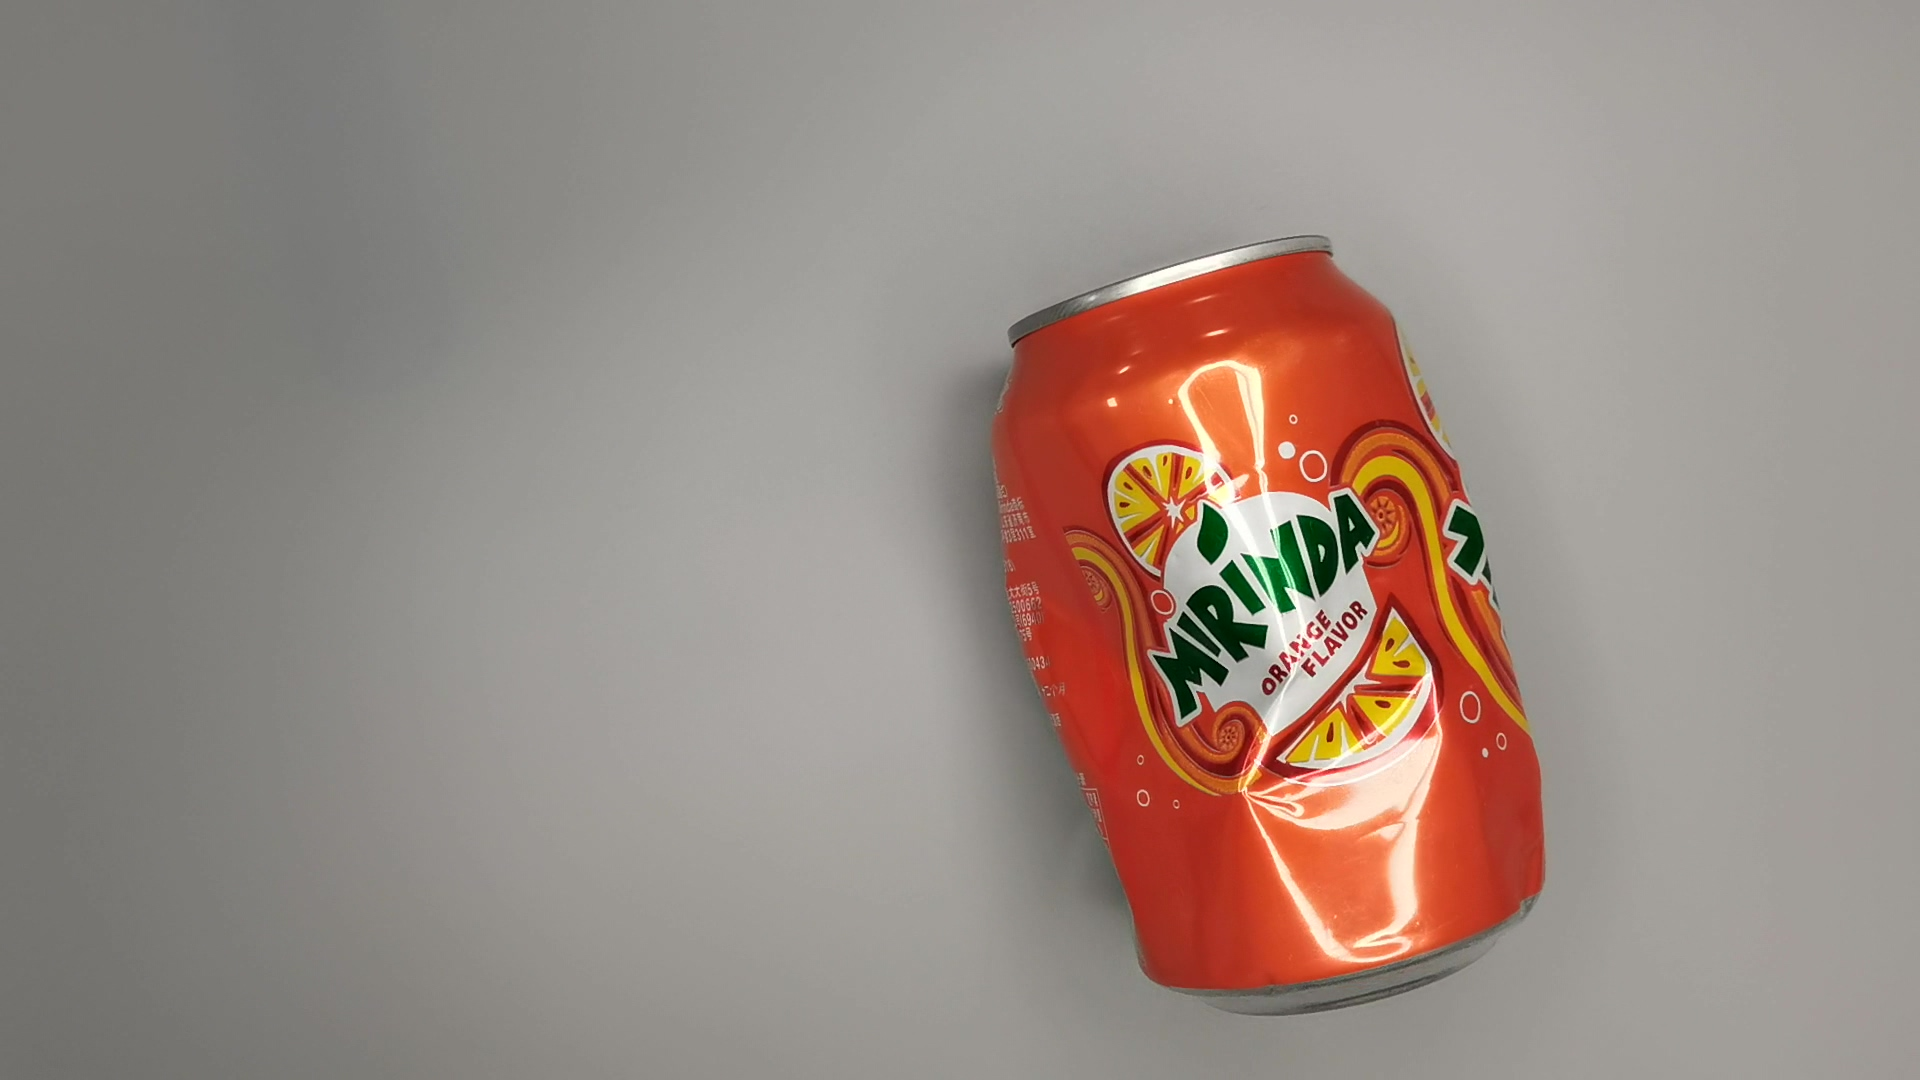can: (975, 229, 1577, 1027)
